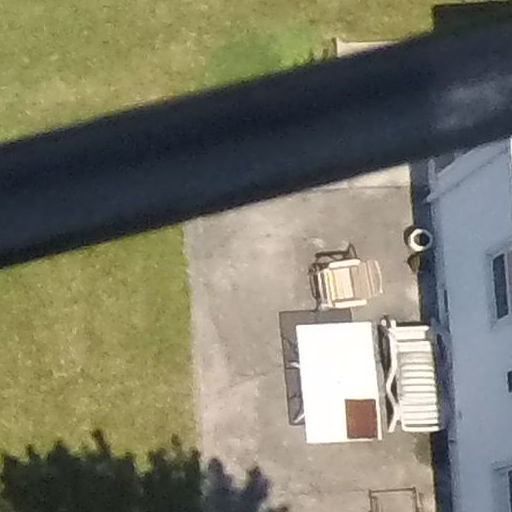chair: (313, 248, 391, 319)
container: (406, 220, 436, 247)
table: (268, 308, 396, 464)
